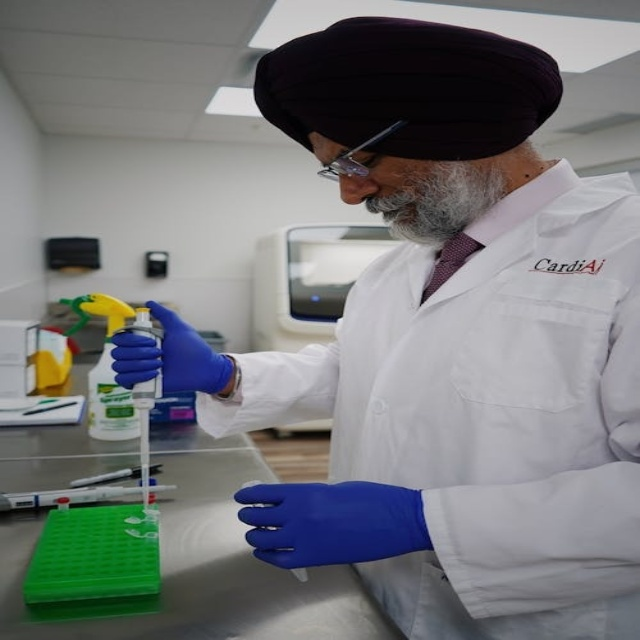Gafas: (317, 121, 405, 182)
Guantes: (234, 479, 432, 570), (133, 301, 235, 397)
Sin_mascara: (338, 185, 439, 241)
